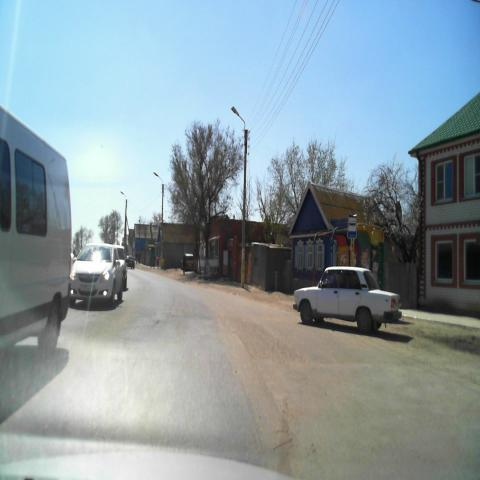5_16: (347, 215, 357, 237)
